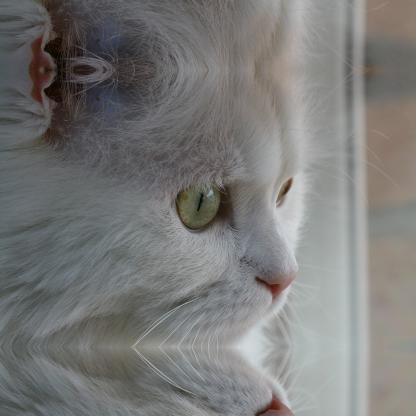Cat: (0, 70, 396, 346), (0, 346, 397, 415), (0, 0, 397, 68)
